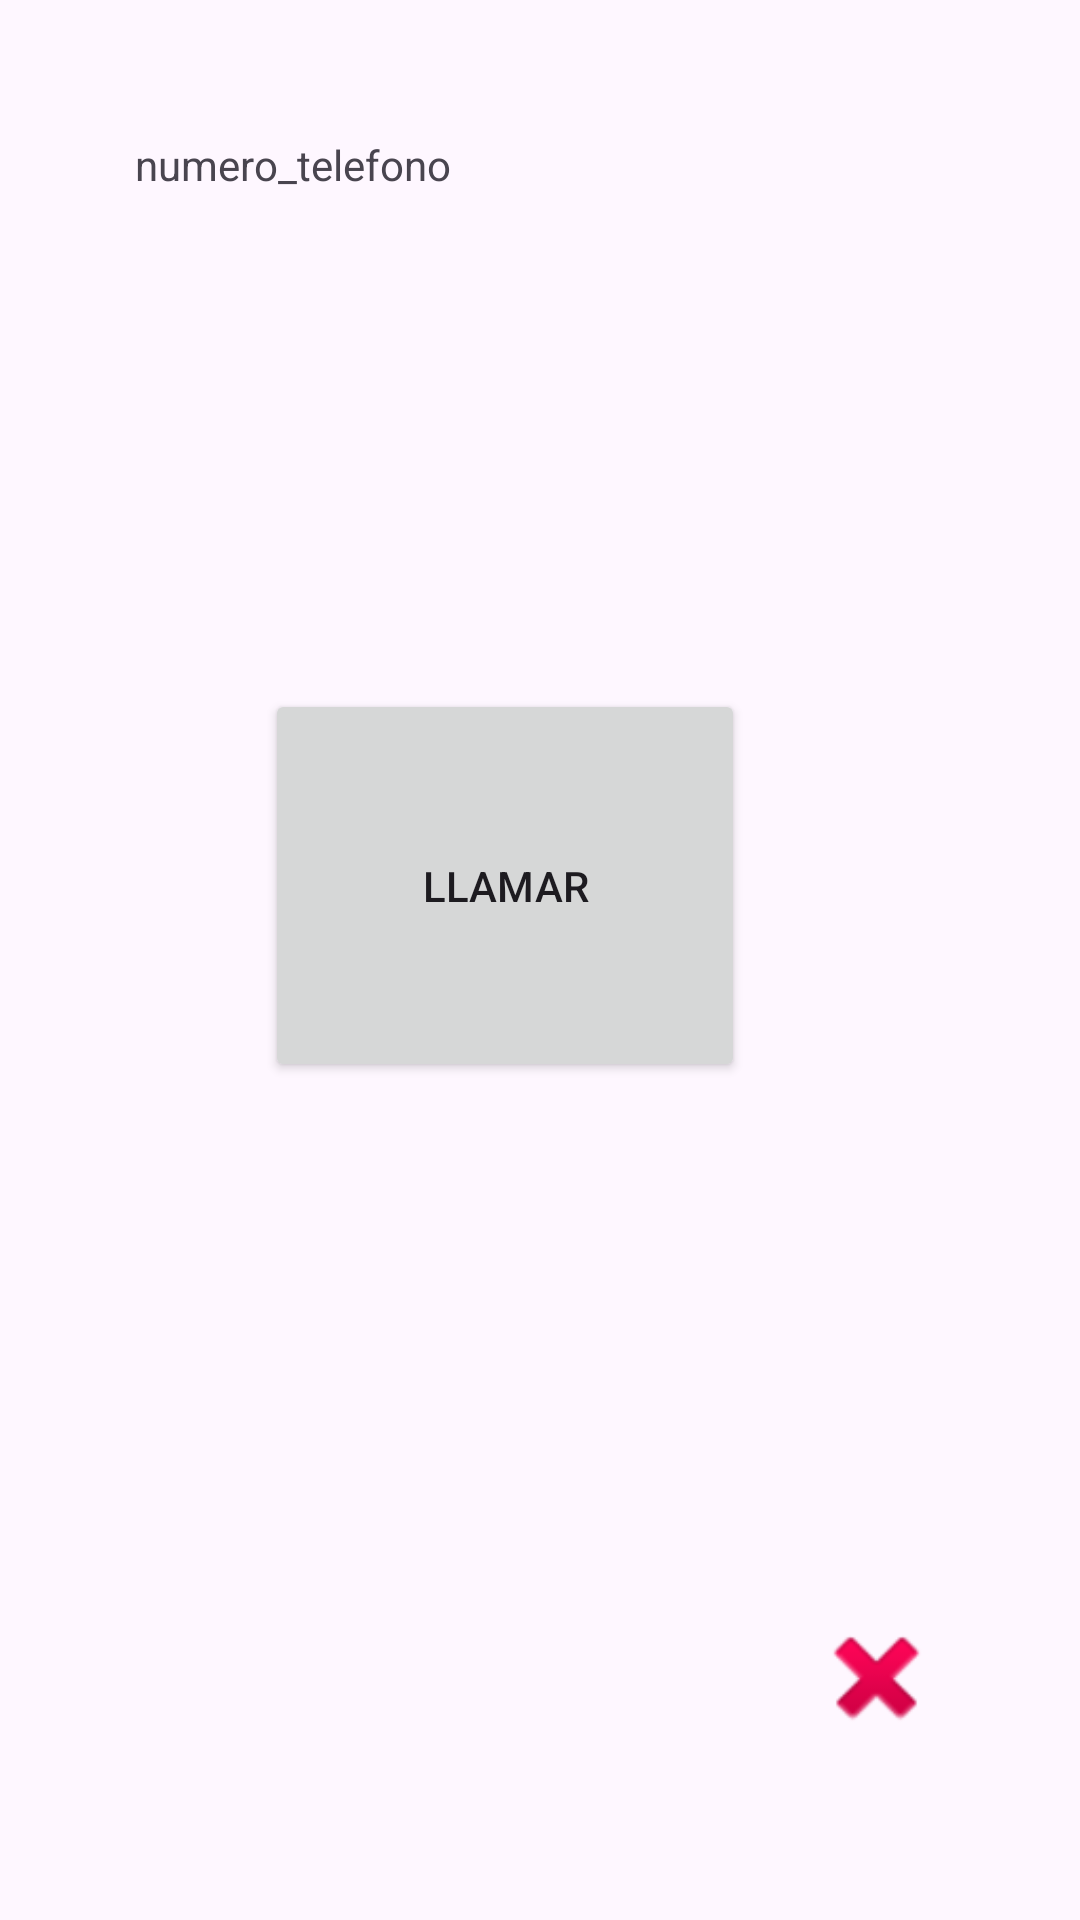

Named icons in this screenshot (1080px x 1920px) and their bounding boxes, (x1, y1, x2, y2):
delete: (834, 1637, 919, 1720)
